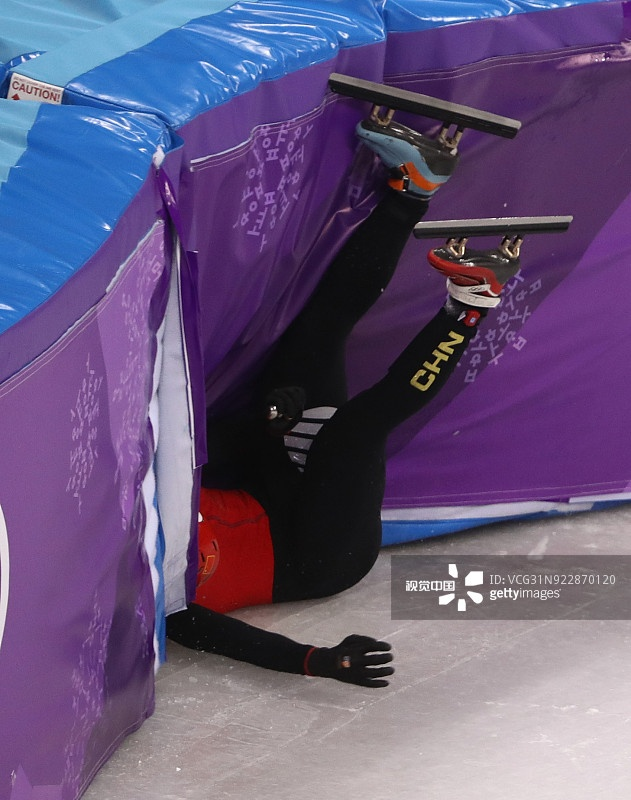falling: (30, 27, 589, 699)
